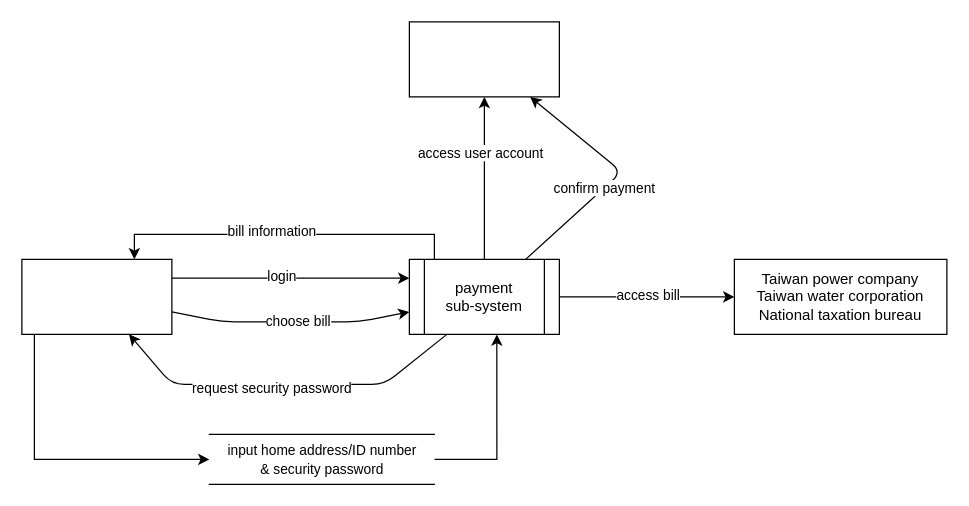
This 969x506 diagram has some shape labels left out. Here are the shapes that lost their labels. From the top down, the centre of each, then its label:
point 483,59: financial institution
point 96,296: user
